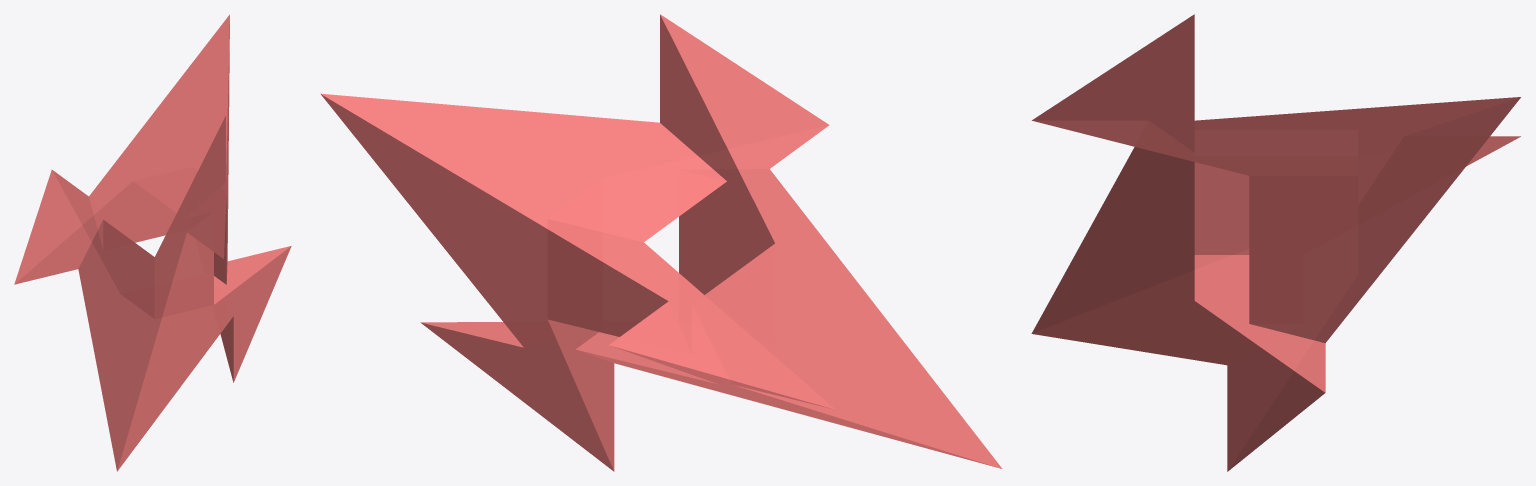
File: HeptagonalDodecahedron_H.obj
3 renders of one model, left to right at view 1: azimuth 30°, elevation 25°; view 2: azimuth 150°, elevation 25°; view 3: azimuth 270°, elevation 25°, orthographic. The views are drawn at different scales.
Bounding box in the file's own units: 4.5 × 4.5 × 4.5.
